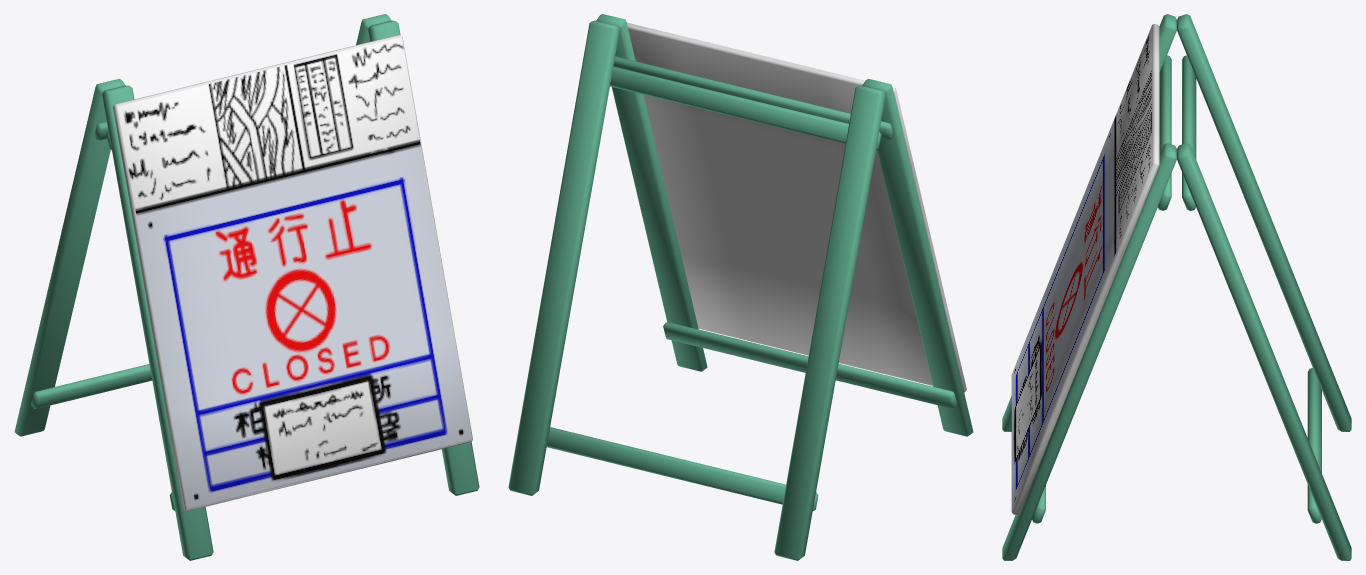
The model's file is RadiationWarningSign.fbx.
3 renders of one model, left to right at view 1: azimuth 30°, elevation 25°; view 2: azimuth 150°, elevation 25°; view 3: azimuth 270°, elevation 25°, orthographic.
Parts seen in each view (by area): view 1: Cube, legs.002, legs, legs.003; view 2: Cube, legs.002, legs, legs.003, legs.001; view 3: Cube, legs.002, legs, legs.003, legs.001.
Part boxes in pixels (bbox=[...]): Cube: bbox=[113, 35, 472, 511]; legs.002: bbox=[14, 14, 391, 436]; legs: bbox=[102, 20, 479, 560]; legs.003: bbox=[31, 121, 152, 408]; Cube: bbox=[627, 22, 966, 392]; legs.002: bbox=[508, 20, 885, 560]; legs: bbox=[596, 14, 973, 436]; legs.003: bbox=[546, 66, 881, 511]; legs.001: bbox=[613, 56, 956, 408]; Cube: bbox=[1011, 23, 1159, 515]; legs.002: bbox=[1177, 14, 1351, 560]; legs: bbox=[1002, 14, 1176, 560]; legs.003: bbox=[1182, 55, 1321, 523]; legs.001: bbox=[1032, 55, 1171, 523].
Size of the model in its own units: 115 by 154 by 120.
